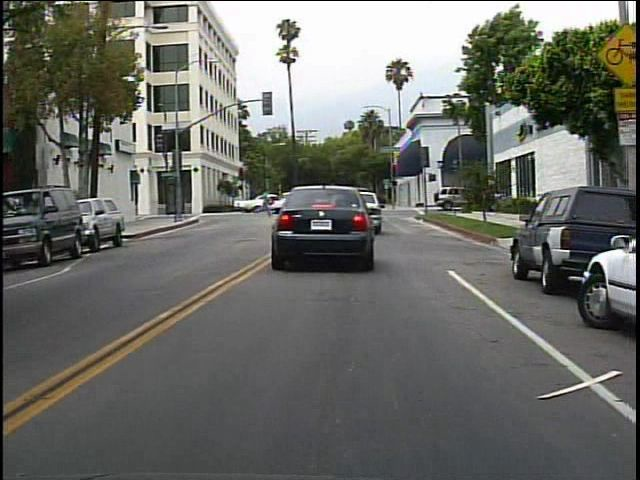person: (253, 189, 275, 222)
